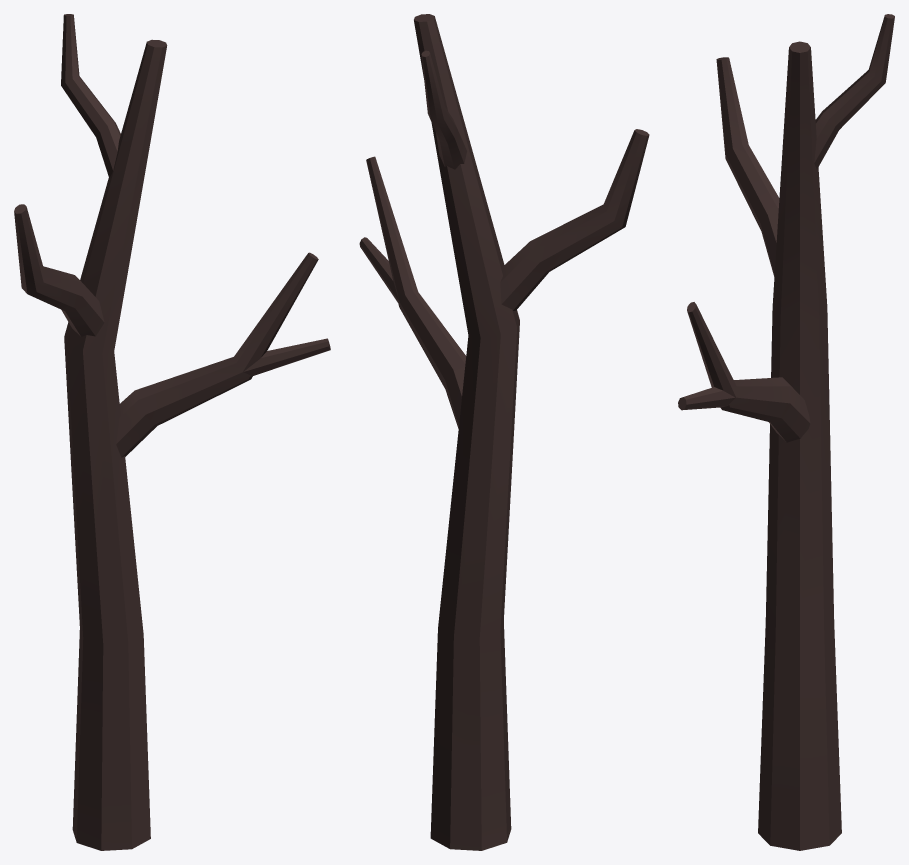
Rendered from SM_DE_DeadTree_01.fbx.
The picture shows the model from 3 angles, left to right: view 1: azimuth 30°, elevation 25°; view 2: azimuth 150°, elevation 25°; view 3: azimuth 270°, elevation 25°; orthographic projection. The views are drawn at different scales.
Parts seen in each view (by area): view 1: Dead_tree_1; view 2: Dead_tree_1; view 3: Dead_tree_1.
Part boxes in pixels (x1,y1,x2,y2): Dead_tree_1: (14, 14, 330, 850); Dead_tree_1: (359, 14, 649, 850); Dead_tree_1: (678, 14, 894, 850).
Size of the model in its own units: 0.3103 by 0.7866 by 0.1891.
